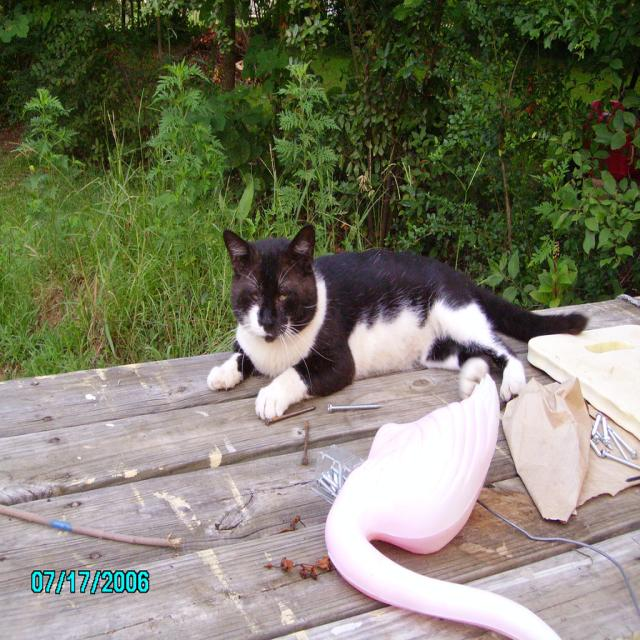cat: (207, 224, 589, 423)
